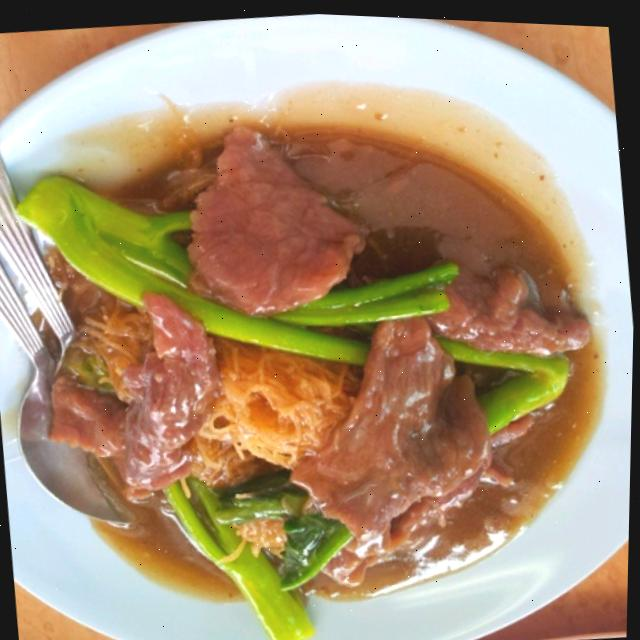面条主食: (0, 27, 628, 640)
